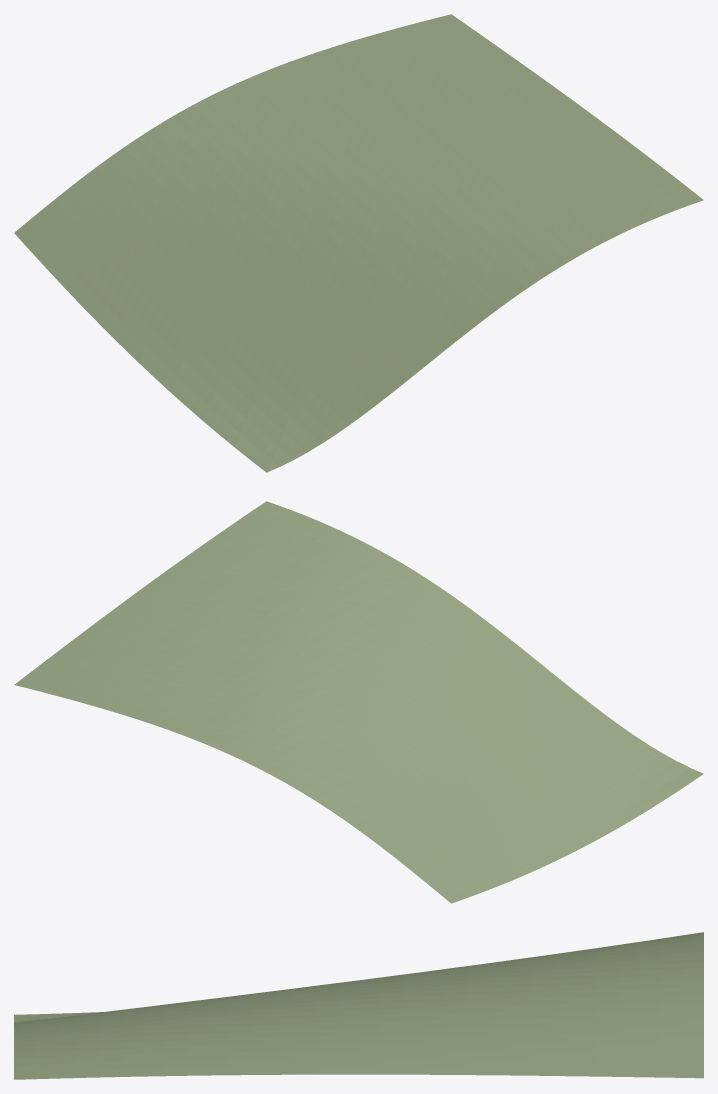
File: expanse-13-23.glb
The picture shows the model from 3 angles, top to bottom: view 1: azimuth 30°, elevation 25°; view 2: azimuth 150°, elevation 25°; view 3: azimuth 270°, elevation 25°; orthographic projection. The views are drawn at different scales.
Visible parts, largest first — view 1: expanse-13-23; view 2: expanse-13-23; view 3: expanse-13-23.
Part boxes in pixels (x1,y1,x2,y2): expanse-13-23: (14,14,703,472); expanse-13-23: (14,501,703,903); expanse-13-23: (14,932,703,1079).
Size of the model in its own units: 256 by 94.89 by 256.
